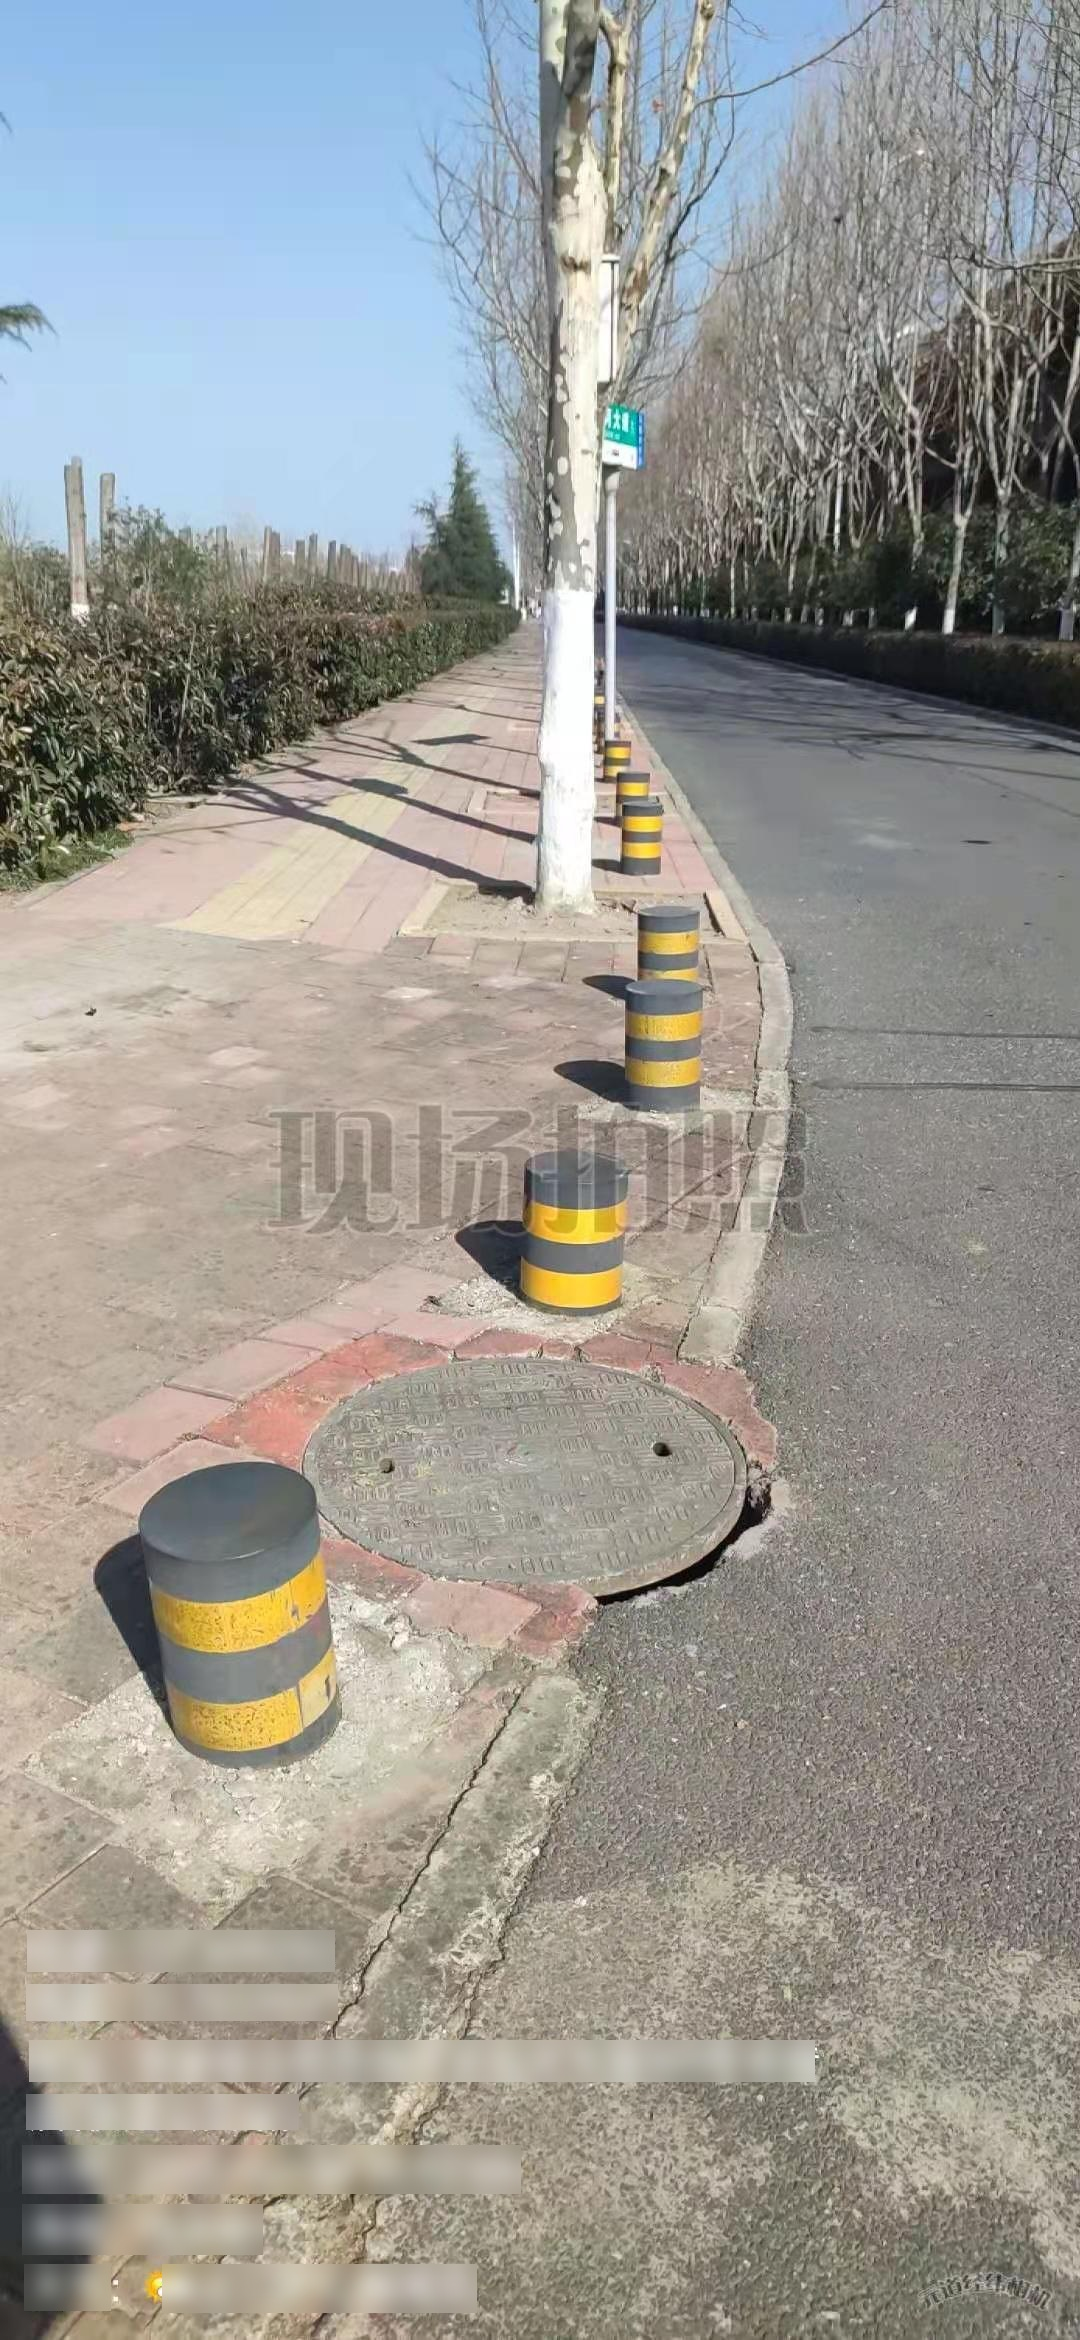circle: (294, 1339, 785, 1625)
